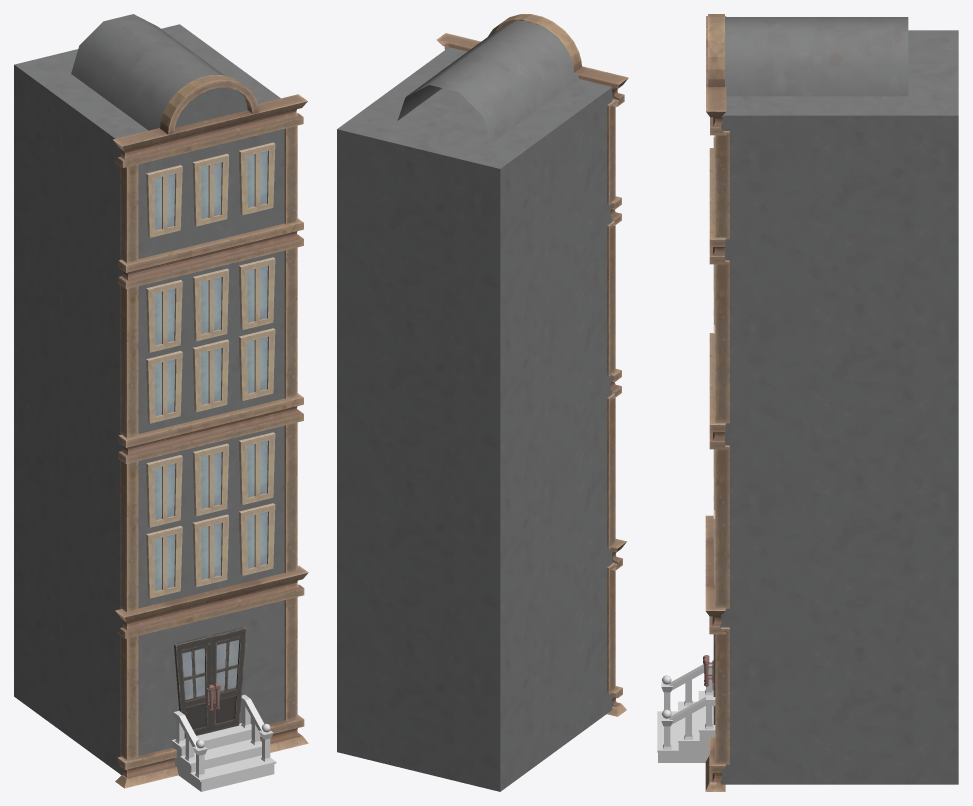
Rendered from Ev_Tallbuilding_4.fbx.
3 renders of one model, left to right at view 1: azimuth 30°, elevation 25°; view 2: azimuth 150°, elevation 25°; view 3: azimuth 270°, elevation 25°, orthographic. The views are drawn at different scales.
Parts seen in each view (by area): view 1: Object067, Object066, Object065, Object060, Cylinder042, P_Doubledoor_005, P_Frame_087, P_Frame_084, P_Frame_085, P_Frame_086, Box878, P_framelong_027 (+26 smaller); view 2: Object066, Object067, Object060, Object065, Cylinder042, P_framelong_027, P_framelong_025, P_Frame_087, P_framelong_023, P_Frameupper_010, P_framelong_029; view 3: Object066, Object067, Object060, Object065, Cylinder042, P_framelong_024, P_framelong_026, Box878, P_framelong_022, P_framelong_028, P_Frame_084, P_Frameupper_010 (+6 smaller).
Part boxes in pixels (left/top/right/bottom): Object067: left=14, top=189, right=284, bottom=445; Object066: left=14, top=366, right=284, bottom=623; Object065: left=14, top=543, right=284, bottom=775; Object060: left=14, top=24, right=284, bottom=265; Cylinder042: left=71, top=14, right=247, bottom=130; P_Doubledoor_005: left=174, top=626, right=246, bottom=738; P_Frame_087: left=113, top=94, right=307, bottom=167; P_Frame_084: left=115, top=565, right=308, bottom=638; P_Frame_085: left=118, top=393, right=303, bottom=463; P_Frame_086: left=118, top=218, right=303, bottom=288; Box878: left=171, top=723, right=276, bottom=791; P_framelong_027: left=120, top=285, right=138, bottom=437; Object066: left=337, top=386, right=612, bottom=640; Object067: left=337, top=212, right=612, bottom=466; Object060: left=337, top=47, right=612, bottom=291; Object065: left=337, top=559, right=612, bottom=791; Cylinder042: left=397, top=20, right=579, bottom=143; P_framelong_027: left=607, top=220, right=615, bottom=376; P_framelong_025: left=607, top=393, right=615, bottom=548; P_Frame_087: left=436, top=33, right=628, bottom=106; P_framelong_023: left=607, top=562, right=615, bottom=694; P_Frameupper_010: left=488, top=14, right=581, bottom=72; P_framelong_029: left=607, top=100, right=615, bottom=205; Object066: left=721, top=435, right=958, bottom=622; Object067: left=725, top=248, right=958, bottom=435; Object060: left=721, top=30, right=958, bottom=247; Object065: left=720, top=622, right=958, bottom=784; Cylinder042: left=725, top=17, right=908, bottom=96; P_framelong_024: left=715, top=445, right=729, bottom=608; P_framelong_026: left=715, top=260, right=729, bottom=423; Box878: left=657, top=691, right=715, bottom=762; P_framelong_022: left=715, top=627, right=729, bottom=764; P_framelong_028: left=715, top=131, right=729, bottom=239; P_Frame_084: left=705, top=515, right=725, bottom=634; P_Frameupper_010: left=708, top=14, right=724, bottom=86.
Size of the model in its own units: 27.28 by 95.65 by 36.1.
